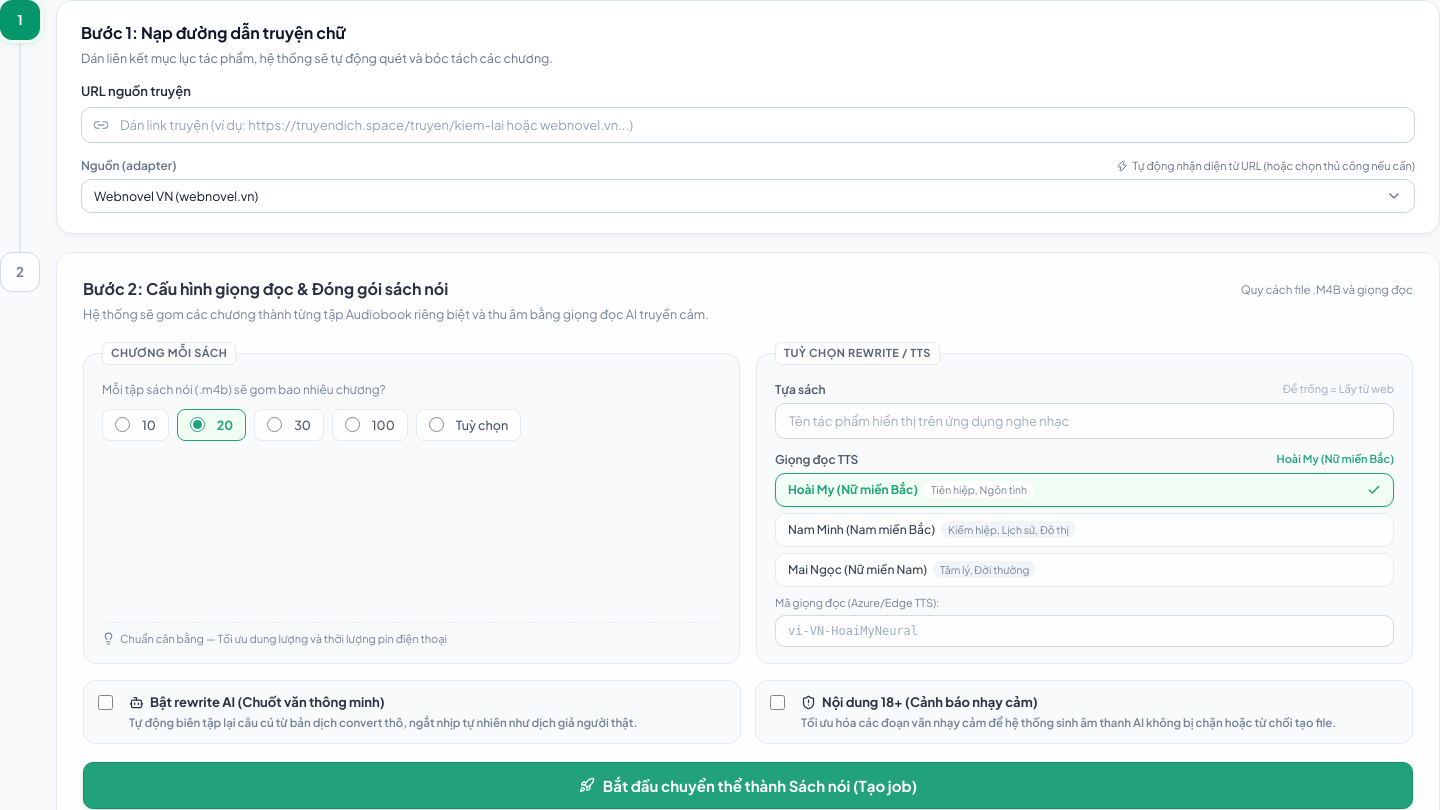
CreateJobForm › chặn chaptersPerBook ngoài [1..1000] — KHÔNG gọi fetch
Replace the text in the field labelled "URL nguồn truyện" with "https://example.com/truyen" at (748, 125), box [81,107,1415,143]
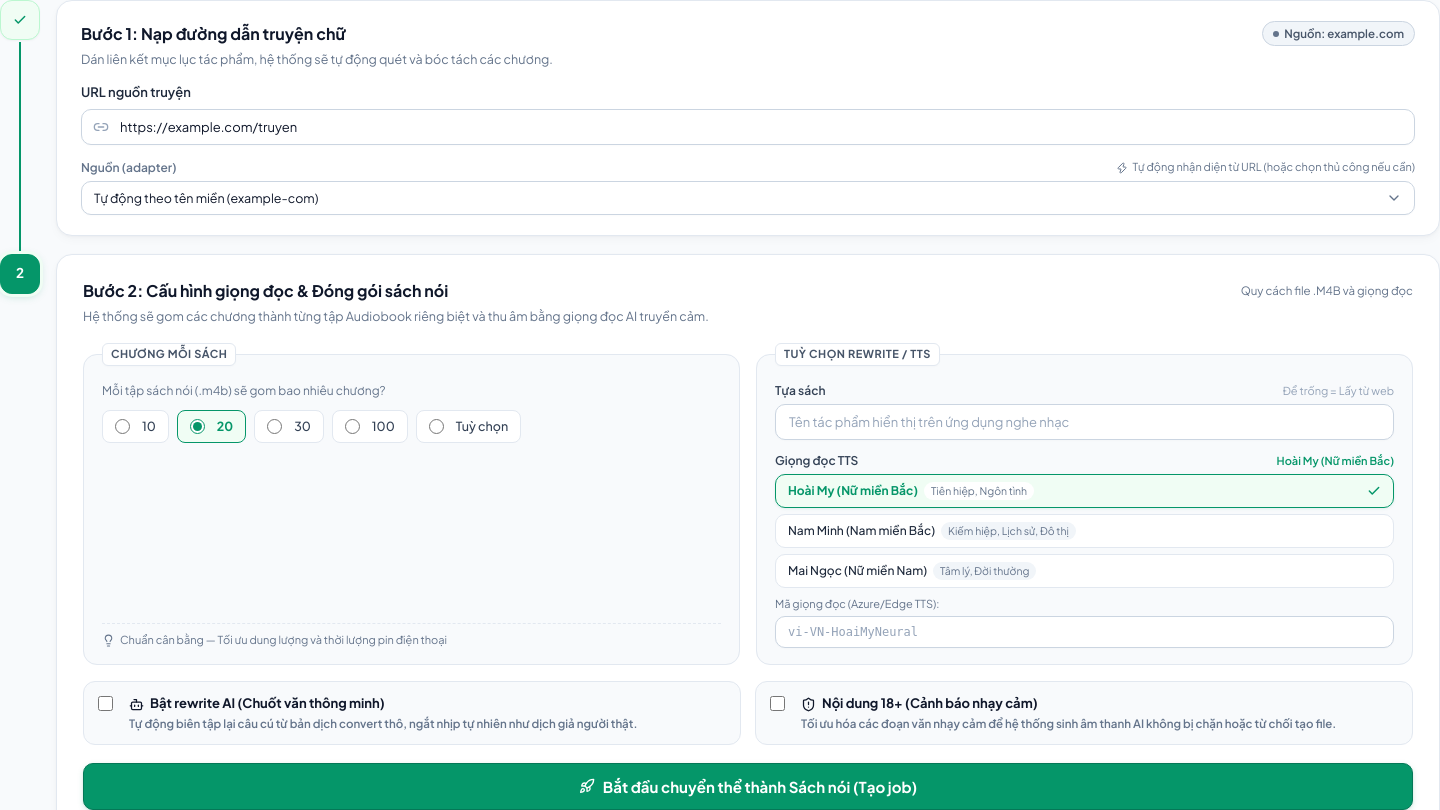
Click the radio button labelled "Tuỳ chọn".
click(436, 426)  # box [429,419,444,434]
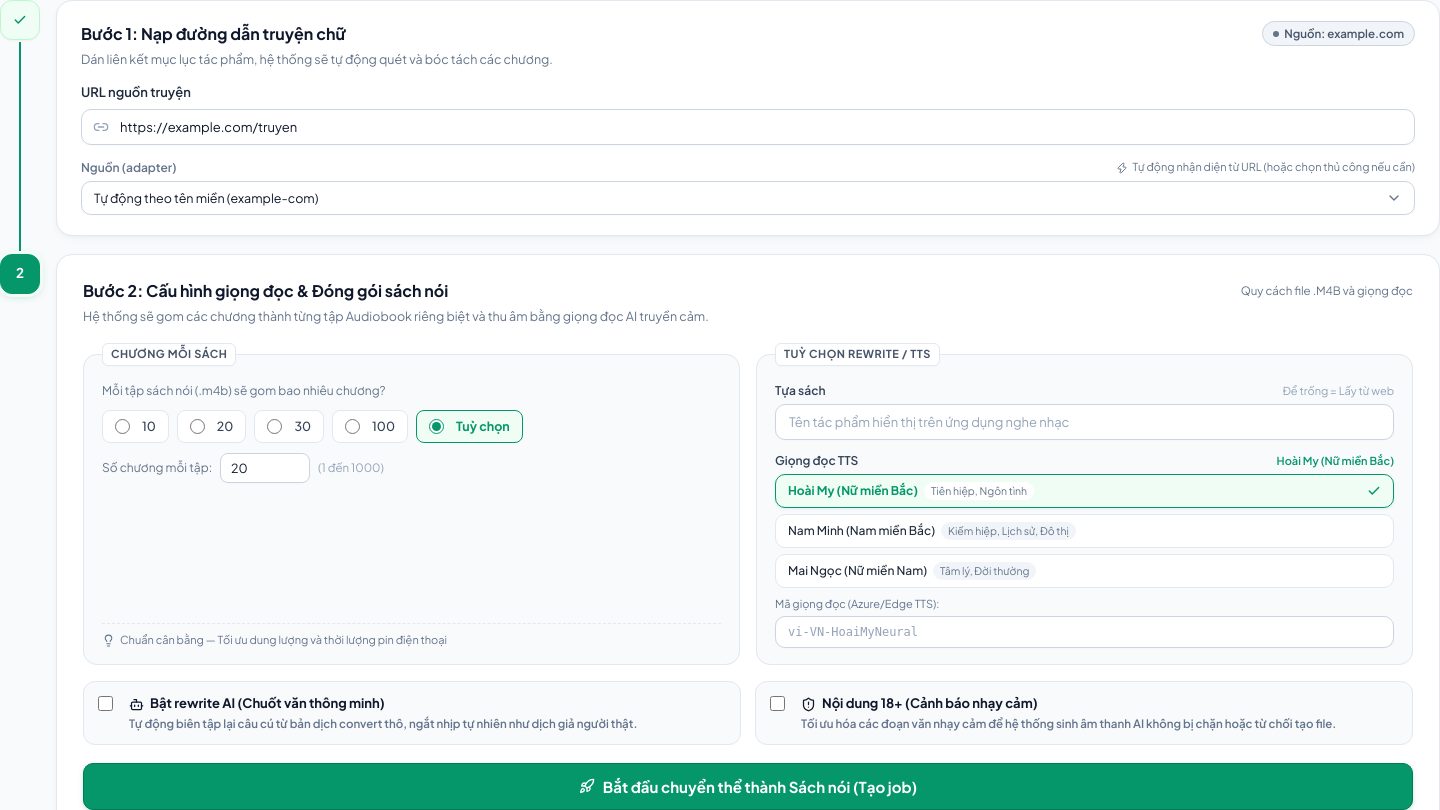
Replace the text in the number field named "Chương mỗi sách (tuỳ chọn)" with "1001" at (265, 468), box [220,452,310,482]
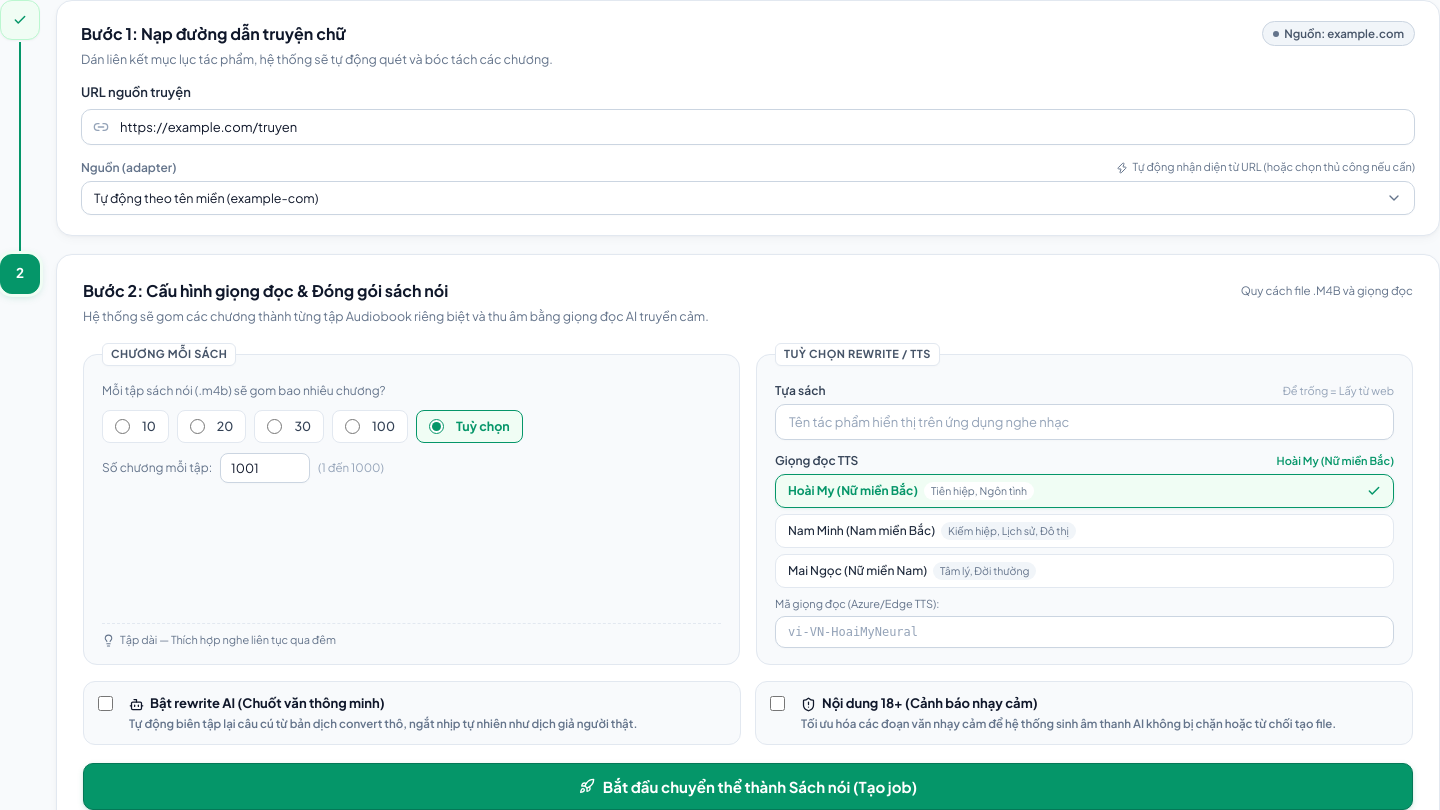
Click the button "Tạo job".
click(748, 786)  # box [83,763,1413,809]
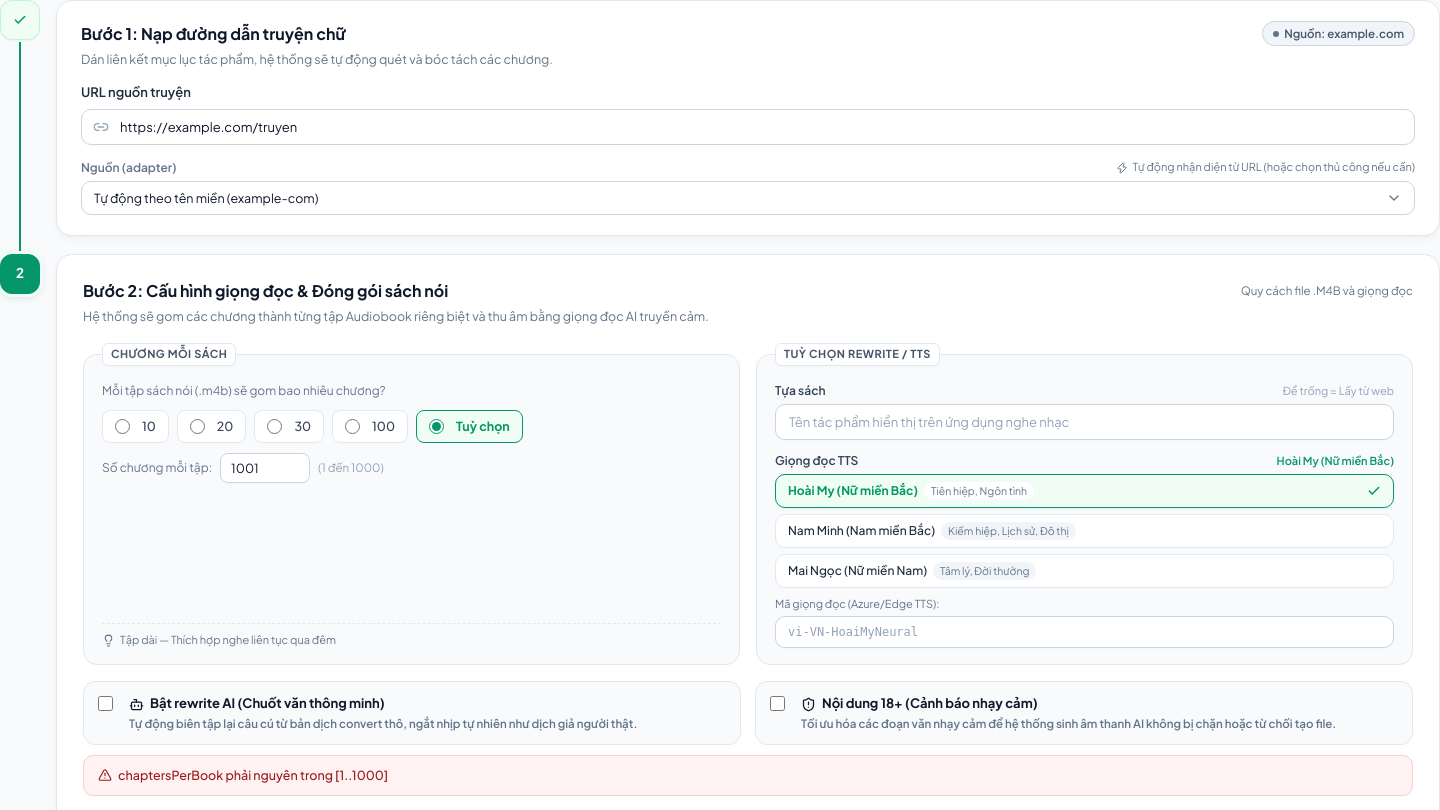
Expected: the message shows "[1..1000]", [118,767,388,783]
